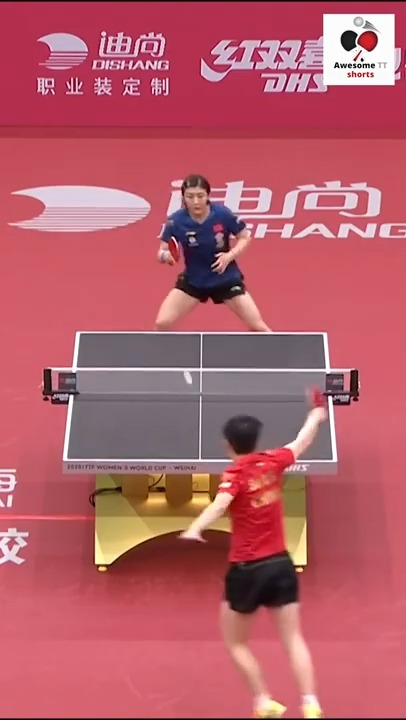Ball: (179, 371, 196, 388)
